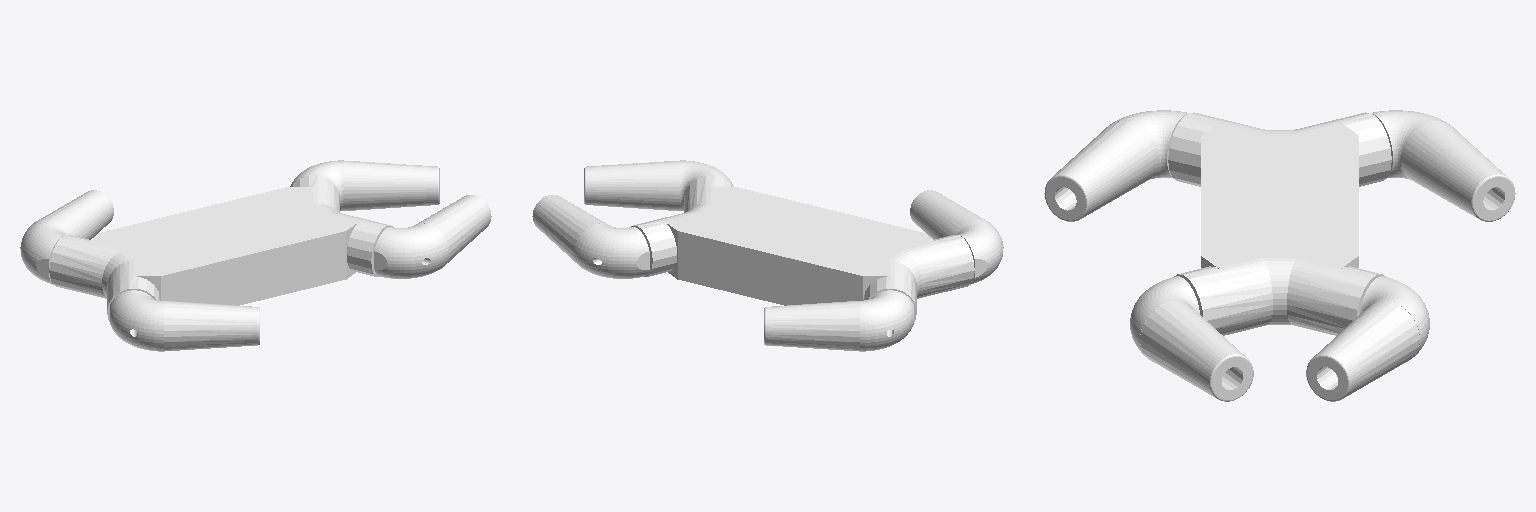
robot.urdf — 30_degree:
<?xml version="1.0" encoding="utf-8"?>
<!-- This URDF was automatically created by SolidWorks to URDF Exporter! Originally created by [author] ([email redacted]) 
     Commit Version: 1.5.1-0-g916b5db  Build Version: 1.5.7152.31018
     For more information, please see http://wiki.ros.org/sw_urdf_exporter -->
<robot
  name="30_degree">
  <link
    name="base_link">
    <inertial>
      <origin
        xyz="2.0817E-17 8.4483E-08 -1.7347E-18"
        rpy="0 0 0" />
      <mass
        value="2.942" />
      <inertia
        ixx="0.0097889"
        ixy="1.7139E-18"
        ixz="-8.4734E-09"
        iyy="0.0493765"
        iyz="-2.2012E-19"
        izz="0.0565094" />
    </inertial>
    <visual>
      <origin
        xyz="0 0 0"
        rpy="0 0 0" />
      <geometry>
        <mesh
          filename="package://30_degree/meshes/base_link.STL" />
      </geometry>
      <material
        name="">
        <color
          rgba="1 1 1 1" />
      </material>
    </visual>
    <collision>
      <origin
        xyz="0 0 0"
        rpy="0 0 0" />
      <geometry>
        <mesh
          filename="package://30_degree/meshes/base_link.STL" />
      </geometry>
    </collision>
  </link>
  <link
    name="left_front_link">
    <inertial>
      <origin
        xyz="-8.8303E-08 0.056834 -0.03601"
        rpy="0 0 0" />
      <mass
        value="0.095" />
      <inertia
        ixx="0.0002672"
        ixy="5.2575E-10"
        ixz="2.3875E-10"
        iyy="0.0000540"
        iyz="2.33E-05"
        izz="0.0002642" />
    </inertial>
    <visual>
      <origin
        xyz="0 0 0"
        rpy="0 0 0" />
      <geometry>
        <mesh
          filename="package://30_degree/meshes/left_front_link.STL" />
      </geometry>
      <material
        name="">
        <color
          rgba="1 1 1 1" />
      </material>
    </visual>
    <collision>
      <origin
        xyz="0 0 0"
        rpy="0 0 0" />
      <geometry>
        <mesh
          filename="package://30_degree/meshes/left_front_link.STL" />
      </geometry>
    </collision>
  </link>
  <joint
    name="left_front_leg"
    type="continuous">
    <origin
      xyz="0.1815 0.089201 0"
      rpy="2.0944 1.5708 0" />
    <parent
      link="base_link" />
    <child
      link="left_front_link" />
    <axis
      xyz="0 0 -1" />
    <limit
      effort="5"
      velocity="487" />
  </joint>
  <link
    name="right_front_link">
    <inertial>
      <origin
        xyz="8.8303E-08 0.056834 0.03601"
        rpy="0 0 0" />
      <mass
        value="0.095" />
      <inertia
        ixx="0.0002672"
        ixy="-5.2575E-10"
        ixz="2.3875E-10"
        iyy="0.0000540"
        iyz="-2.33E-05"
        izz="0.0002642" />
    </inertial>
    <visual>
      <origin
        xyz="0 0 0"
        rpy="0 0 0" />
      <geometry>
        <mesh
          filename="package://30_degree/meshes/right_front_link.STL" />
      </geometry>
      <material
        name="">
        <color
          rgba="1 1 1 1" />
      </material>
    </visual>
    <collision>
      <origin
        xyz="0 0 0"
        rpy="0 0 0" />
      <geometry>
        <mesh
          filename="package://30_degree/meshes/right_front_link.STL" />
      </geometry>
    </collision>
  </link>
  <joint
    name="right_front_leg"
    type="continuous">
    <origin
      xyz="0.1815 -0.089201 0"
      rpy="1.0472 1.5708 0" />
    <parent
      link="base_link" />
    <child
      link="right_front_link" />
    <axis
      xyz="0 0 1" />
    <limit
      effort="5"
      velocity="487" />
  </joint>
  <link
    name="right_back_link">
    <inertial>
      <origin
        xyz="8.1005E-08 0.056834 0.03601"
        rpy="0 0 0" />
      <mass
        value="0.095" />
      <inertia
        ixx="0.0002672"
        ixy="-5.043E-10"
        ixz="1.5614E-10"
        iyy="0.0000540"
        iyz="-2.33E-05"
        izz="0.0002642" />
    </inertial>
    <visual>
      <origin
        xyz="0 0 0"
        rpy="0 0 0" />
      <geometry>
        <mesh
          filename="package://30_degree/meshes/right_back_link.STL" />
      </geometry>
      <material
        name="">
        <color
          rgba="1 1 1 1" />
      </material>
    </visual>
    <collision>
      <origin
        xyz="0 0 0"
        rpy="0 0 0" />
      <geometry>
        <mesh
          filename="package://30_degree/meshes/right_back_link.STL" />
      </geometry>
    </collision>
  </link>
  <joint
    name="right_back_leg"
    type="continuous">
    <origin
      xyz="-0.1815 -0.089201 0"
      rpy="2.0944 1.5708 0" />
    <parent
      link="base_link" />
    <child
      link="right_back_link" />
    <axis
      xyz="0 0 1" />
    <limit
      effort="5"
      velocity="487" />
  </joint>
  <link
    name="left_back_link">
    <inertial>
      <origin
        xyz="-8.1005E-08 0.056834 -0.03601"
        rpy="0 0 0" />
      <mass
        value="0.095" />
      <inertia
        ixx="0.0002672"
        ixy="5.043E-10"
        ixz="1.5614E-10"
        iyy="0.0000540"
        iyz="2.33E-05"
        izz="0.0002642" />
    </inertial>
    <visual>
      <origin
        xyz="0 0 0"
        rpy="0 0 0" />
      <geometry>
        <mesh
          filename="package://30_degree/meshes/left_back_link.STL" />
      </geometry>
      <material
        name="">
        <color
          rgba="1 1 1 1" />
      </material>
    </visual>
    <collision>
      <origin
        xyz="0 0 0"
        rpy="0 0 0" />
      <geometry>
        <mesh
          filename="package://30_degree/meshes/left_back_link.STL" />
      </geometry>
    </collision>
  </link>
  <joint
    name="left_back_leg"
    type="continuous">
    <origin
      xyz="-0.1815 0.089201 0"
      rpy="1.0472 1.5708 0" />
    <parent
      link="base_link" />
    <child
      link="left_back_link" />
    <axis
      xyz="0 0 -1" />
    <limit
      effort="5"
      velocity="487" />
  </joint>
</robot>

--- What the picture shows (computed from the rendered views, not written in the file) ---
Views: 3 orthographic renders of the robot side by side, from view 1: azimuth 30°, elevation 25°; view 2: azimuth 150°, elevation 25°; view 3: azimuth 270°, elevation 25°.
Model 30_degree with 5 links and 4 joints (4 continuous), rooted at base_link, posed every joint at zero.
Visible links, largest first — view 1: base_link, right_back_link, right_front_link, left_front_link, left_back_link; view 2: base_link, left_back_link, left_front_link, right_front_link, right_back_link; view 3: base_link, left_front_link, right_front_link, right_back_link, left_back_link.
Link boxes in pixels (x1,y1,x2,y2): base_link: (49,175,392,321); right_back_link: (110,290,259,351); right_front_link: (374,195,491,278); left_front_link: (290,160,439,210); left_back_link: (20,190,113,283); base_link: (631,175,974,321); left_back_link: (764,290,913,351); left_front_link: (532,195,649,278); right_front_link: (584,160,733,210); right_back_link: (910,190,1003,283); base_link: (1168,112,1391,335); left_front_link: (1306,276,1429,401); right_front_link: (1130,276,1253,401); right_back_link: (1044,110,1187,221); left_back_link: (1372,110,1515,221).
Size in the robot's own frame: 0.5694 by 0.4464 by 0.0672 metres.
5 mesh visuals loaded from 5 distinct referenced files (5 binary STL).